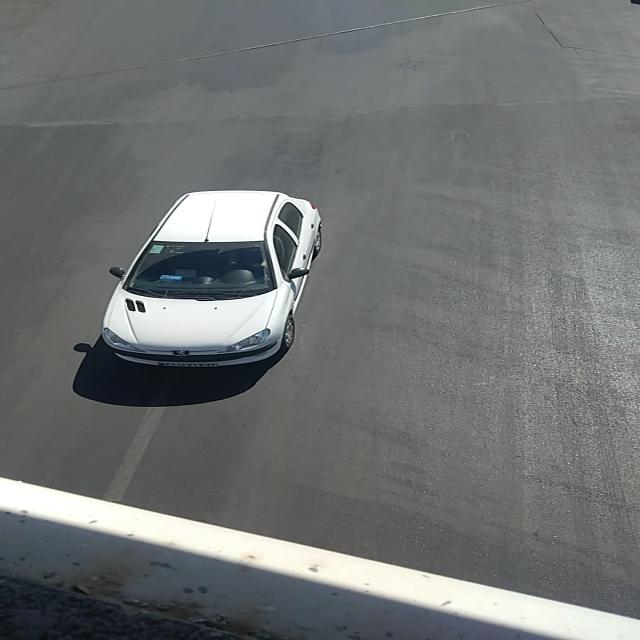car: (103, 189, 324, 367)
